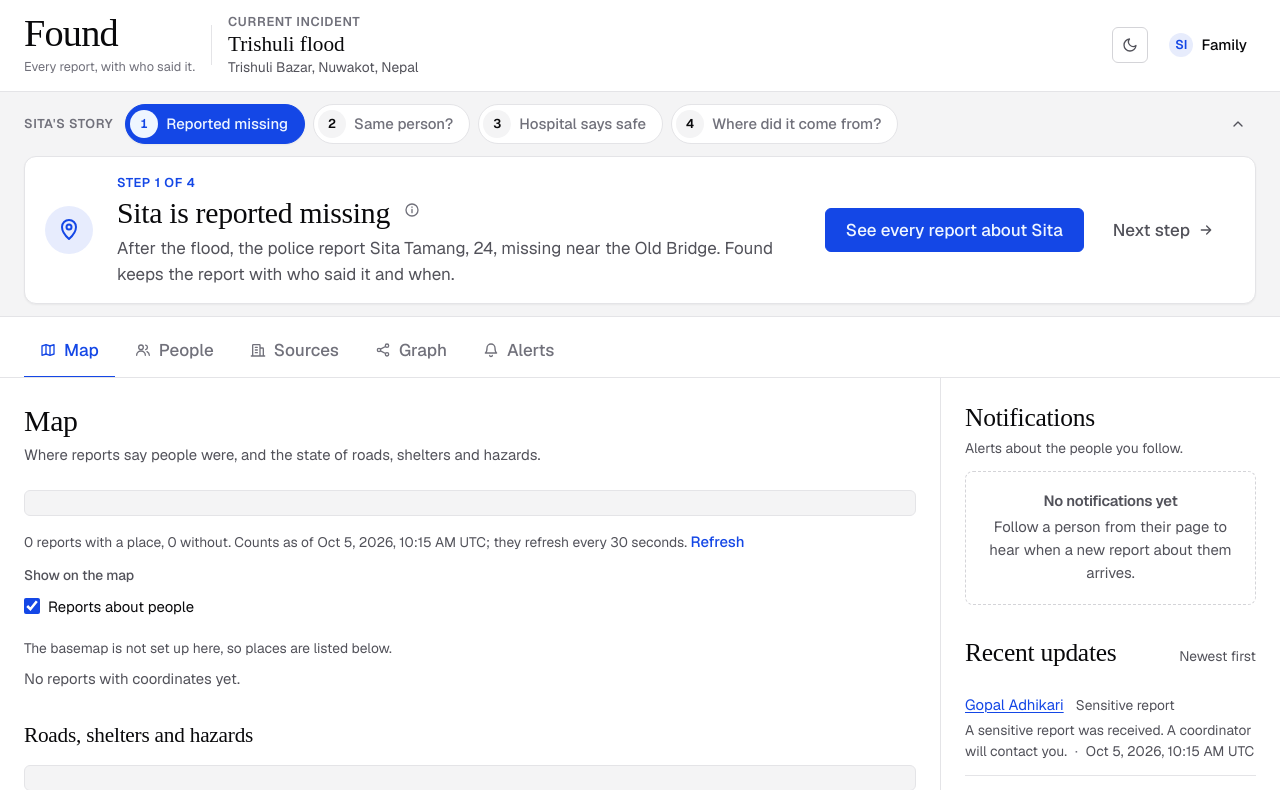
app shell › publishes the hospital report from step 3, once, as in Trace
The width and height of the screenshot is (1280, 790).
Click the button "3 Hospital says safe" at (571, 124), box [478,104,663,144]
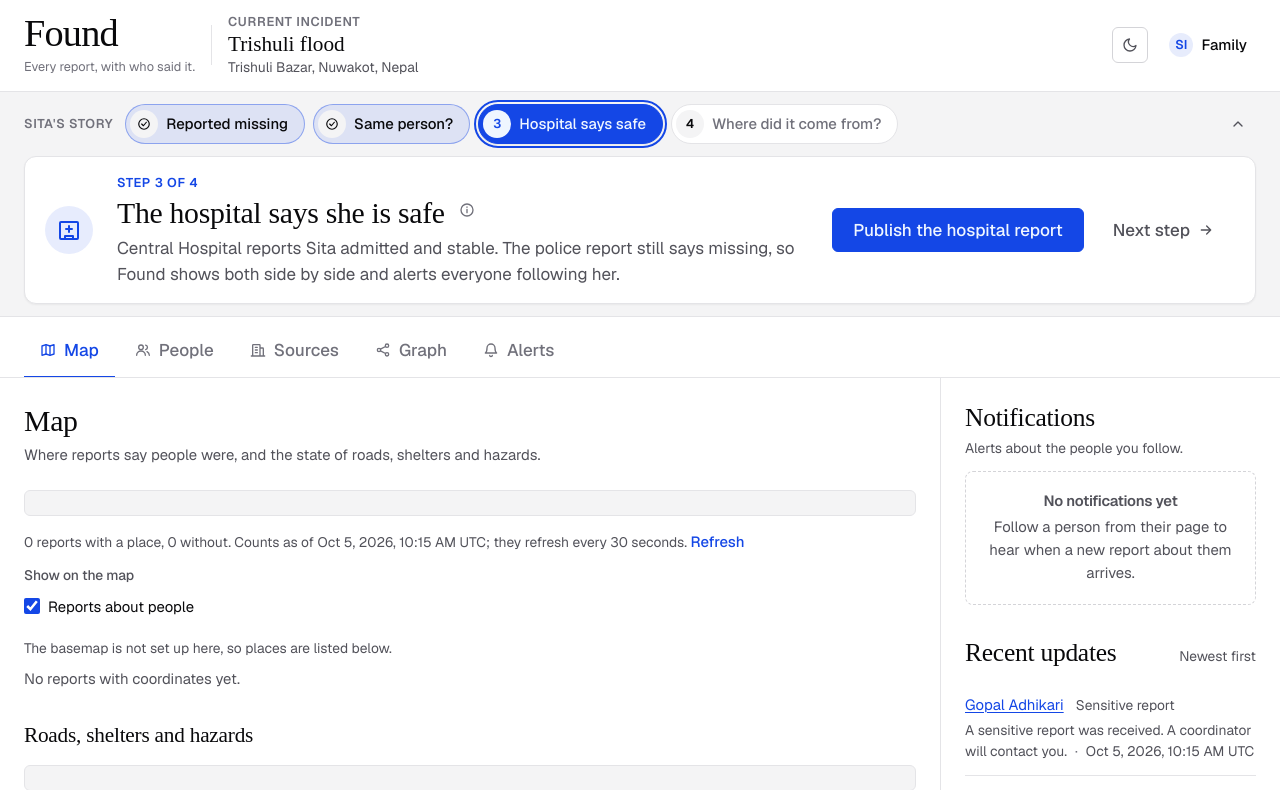
Click the button "Publish the hospital report" at (958, 230), box [832,208,1084,252]
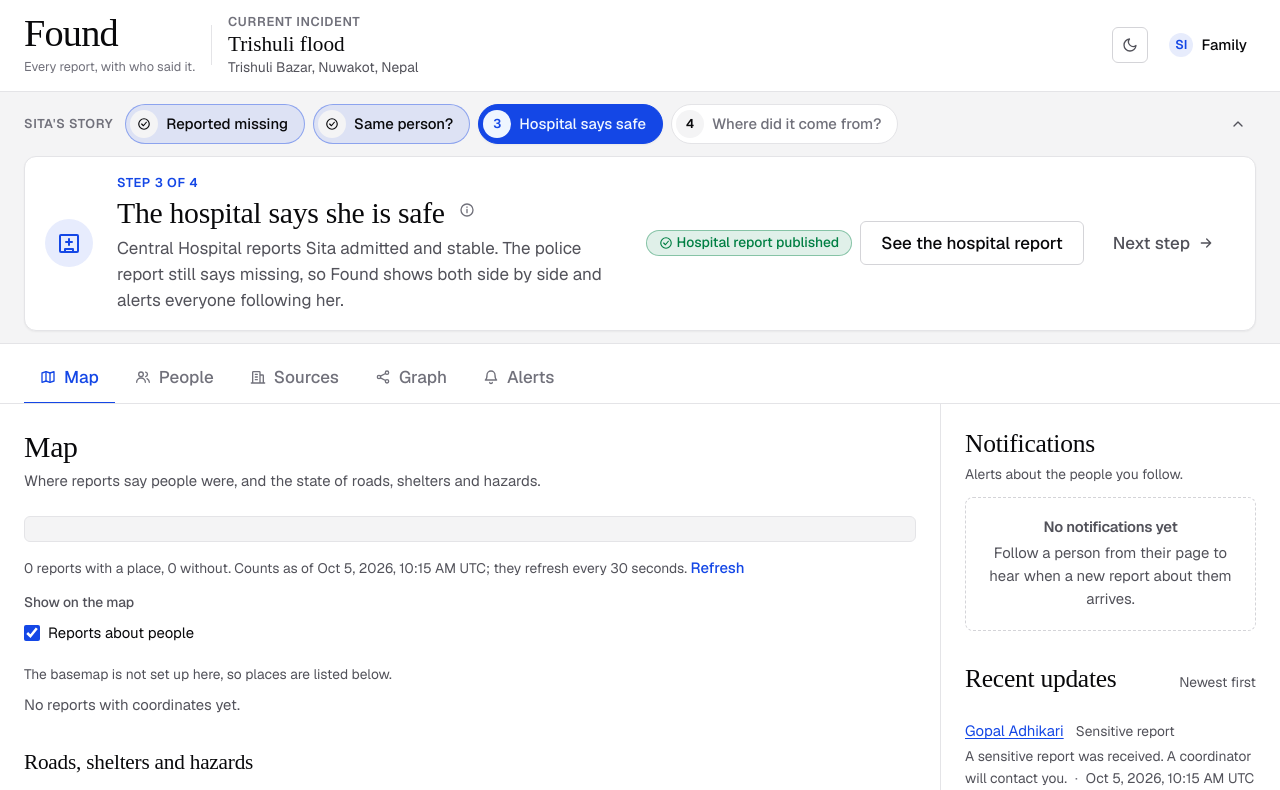
Result: the text "Hospital report published" is shown at [646,230,852,256]
Result: the button "Publish the hospital report" is gone
